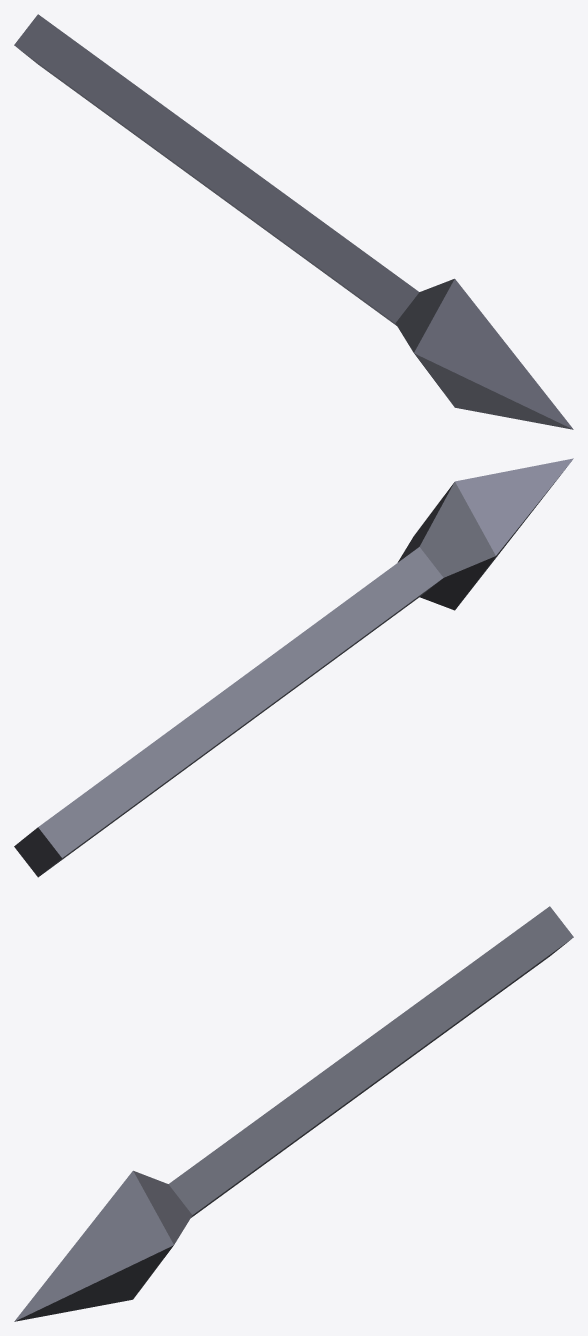
Rendered from AirArrowArrowLv1_5.FBX.
3 views of the same model, one above another, from view 1: azimuth 30°, elevation 25°; view 2: azimuth 150°, elevation 25°; view 3: azimuth 330°, elevation 25° (orthographic).
Visible parts, largest first — view 1: AirArrowArrowLv1_5; view 2: AirArrowArrowLv1_5; view 3: AirArrowArrowLv1_5.
Boxes of the visible parts, bbox=[...] form: AirArrowArrowLv1_5: bbox=[14, 14, 573, 429]; AirArrowArrowLv1_5: bbox=[14, 458, 573, 877]; AirArrowArrowLv1_5: bbox=[14, 906, 573, 1321].
Bounding box in the file's own units: 6.14 × 9.23 × 69.39.
